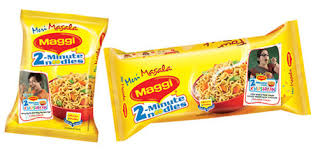maggie: (102, 39, 318, 127), (9, 11, 108, 145)
